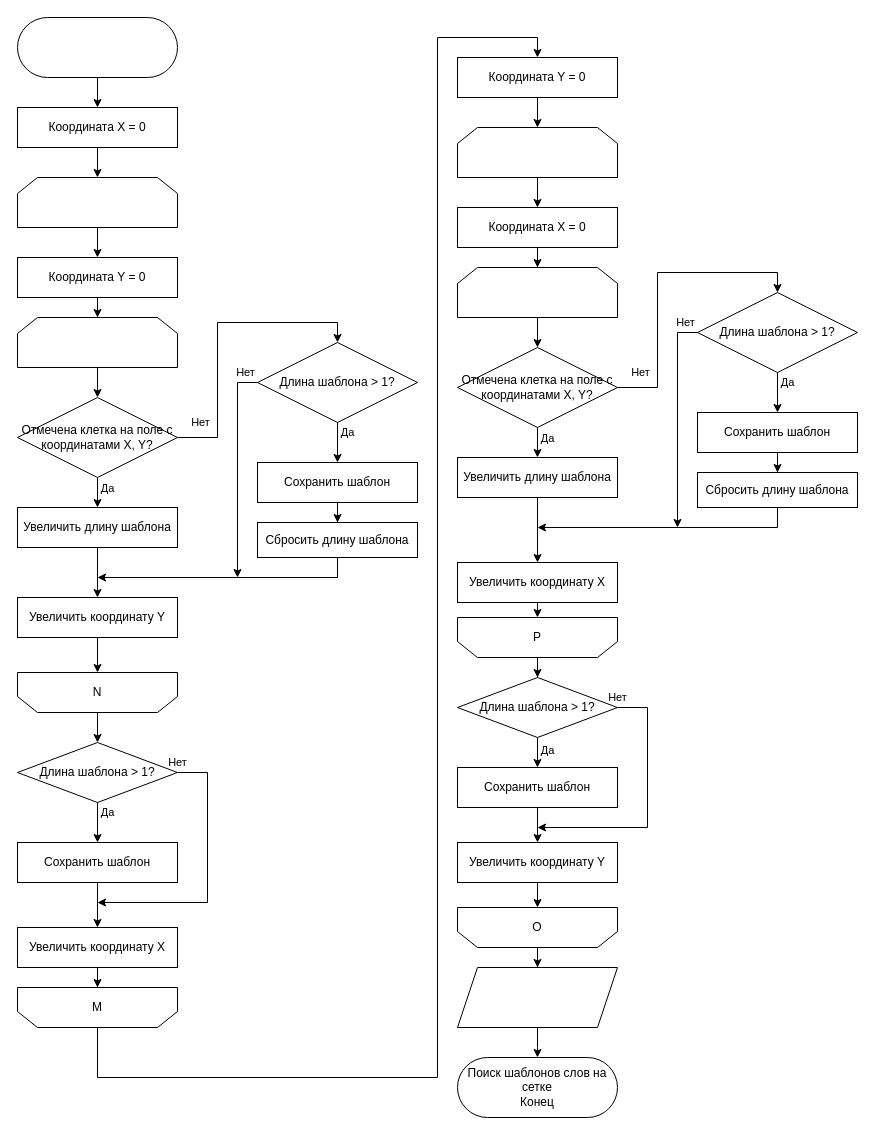
This 875x1135 diagram has some shape labels left out. The shapes that lost their labels are listed below. From the top down, each one's centre as x and y in pixels, then its label:
At (x=97, y=47): "Поиск шаблонов слов на сетке Начало".
At (x=537, y=152): "O Координата Y = высоте поля?".
At (x=97, y=202): "M Координата X = ширине поля?".
At (x=537, y=292): "P Координата X = ширине поля?".
At (x=97, y=342): "N Координата Y = высоте поля?".
At (x=537, y=997): "Вернуть список шаблонов слов".
